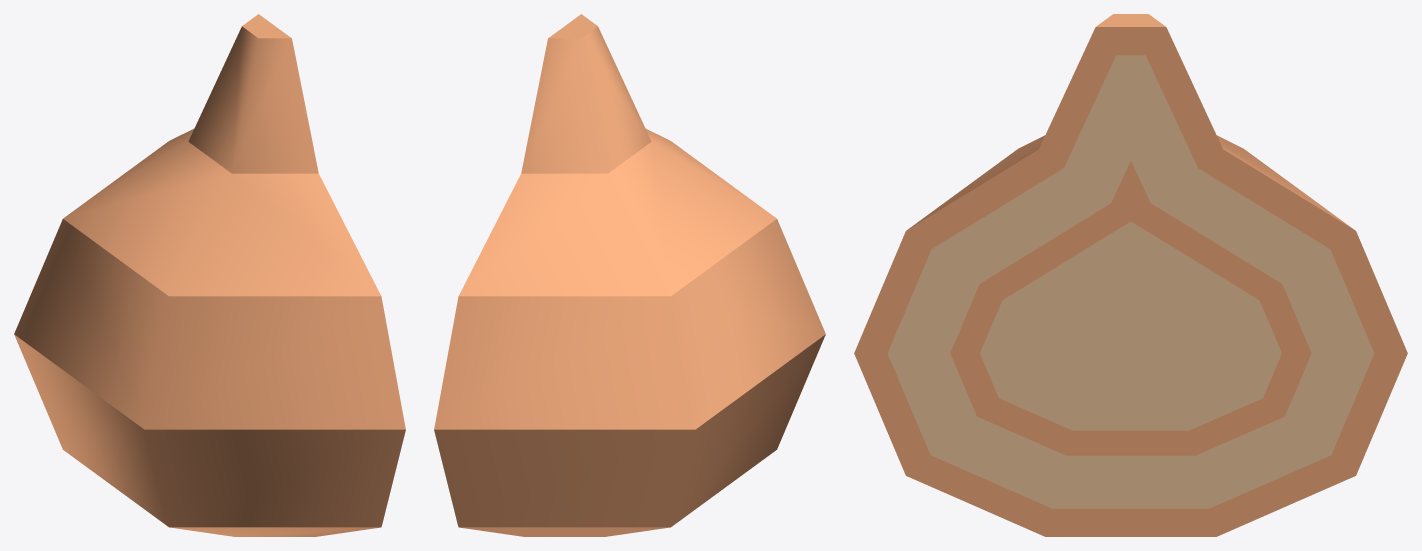
File: Onion Half.glb
The picture shows the model from 3 angles, left to right: view 1: azimuth 30°, elevation 25°; view 2: azimuth 150°, elevation 25°; view 3: azimuth 270°, elevation 25°; orthographic projection. The views are drawn at different scales.
Visible parts, largest first — view 1: onionHalf; view 2: onionHalf; view 3: onionHalf.
Part boxes in pixels (box(x1,y1,x2,y2)): onionHalf: box(14, 14, 405, 536); onionHalf: box(434, 14, 825, 536); onionHalf: box(854, 14, 1407, 536).
Size of the model in its own units: 0.1065 by 0.25 by 0.246.
